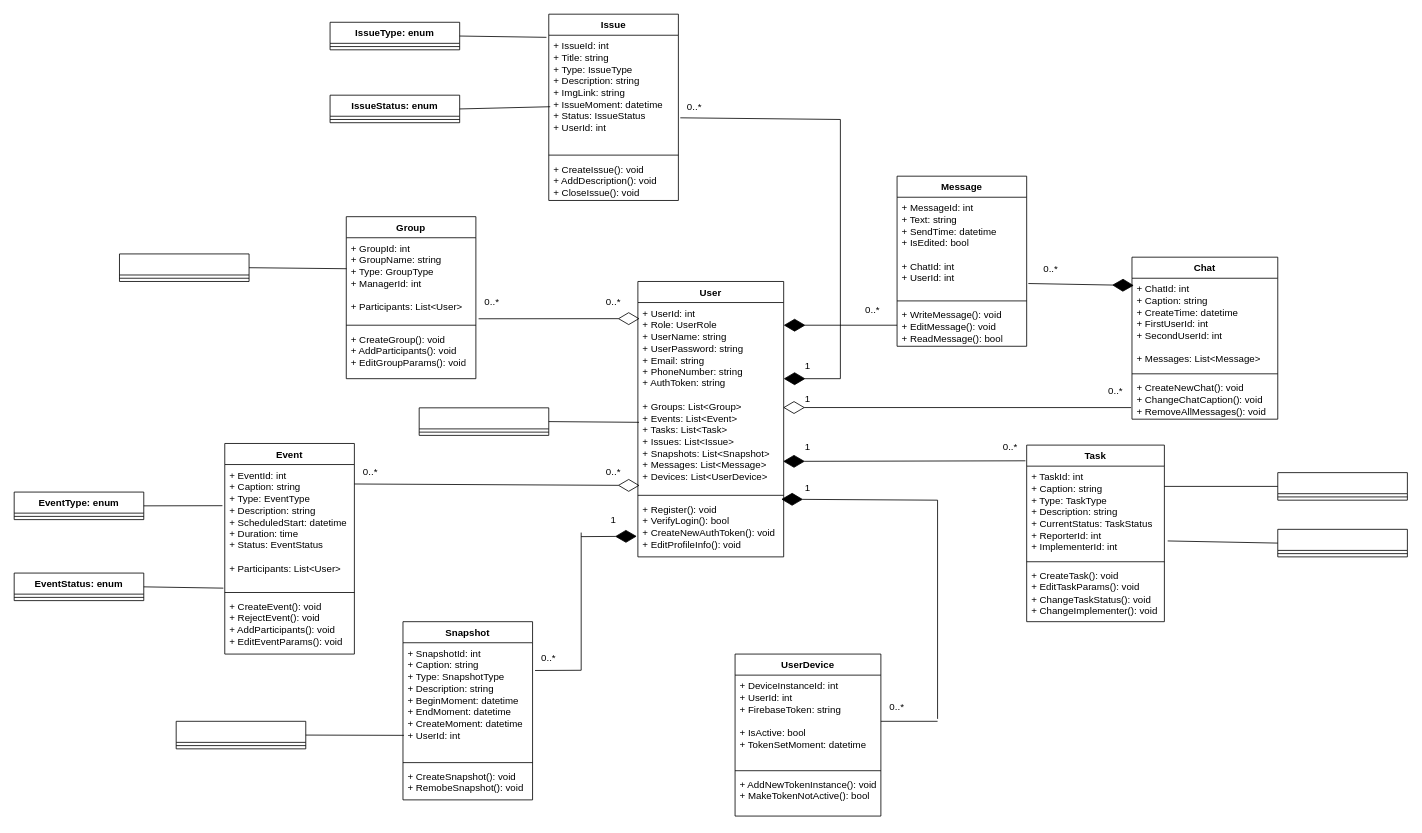
The diagram is 1422 pixels wide and 833 high, and some of its shapes have lost their labels. The shapes that lost their labels are listed below. From the top down, each one's centre as x and y in pixels, then its label:
the point at 184,267: GroupType: enum
the point at 483,421: UserRole: enum
the point at 1342,486: TaskType: enum
the point at 1342,543: TaskStatus: enum
the point at 240,734: SnapshotType: enum
